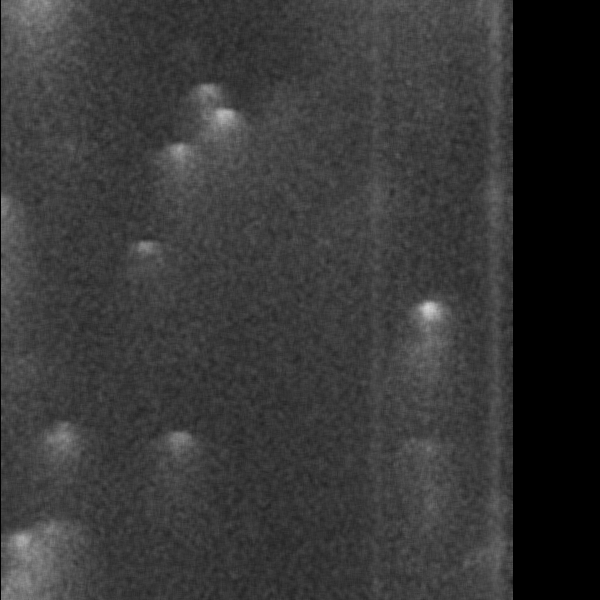spark: (19, 194, 84, 225), (1, 248, 43, 286), (65, 236, 112, 267)
